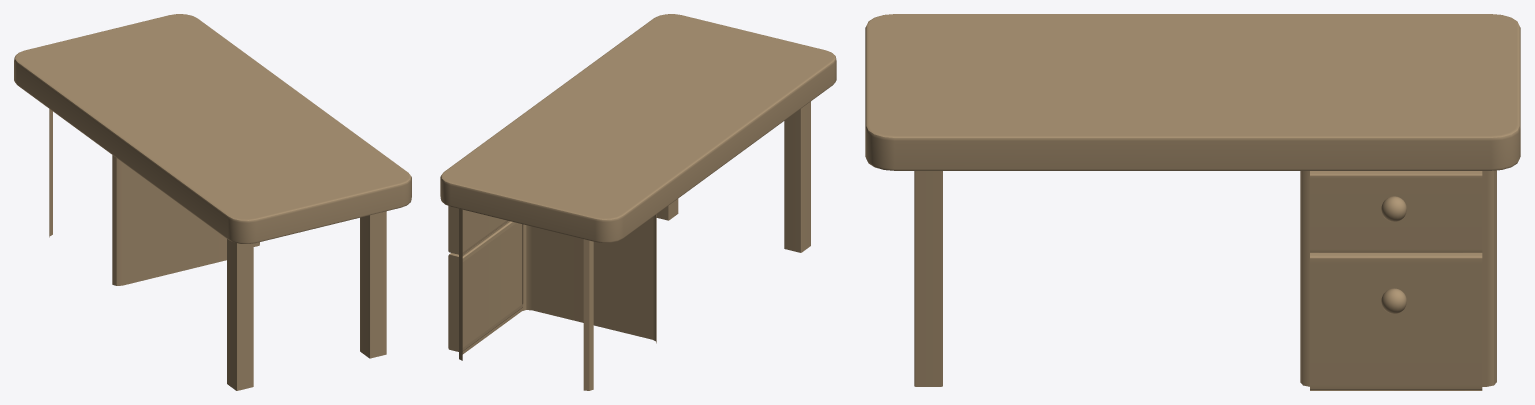
The model's file is desk.fbx.
3 renders of one model, left to right at view 1: azimuth 30°, elevation 25°; view 2: azimuth 150°, elevation 25°; view 3: azimuth 270°, elevation 25°, orthographic. The views are drawn at different scales.
Visible parts, largest first — view 1: desktop, deskside, deskleg02, deskleg01; view 2: desktop, deskside, deskleg02, deskdrawer02, deskdrawer01; view 3: desktop, deskdrawer02, deskdrawer01, deskleg01, deskside.
Part boxes in pixels (x1,y1,x2,y2): desktop: (14,14,411,243); deskside: (49,109,226,285); deskleg02: (227,239,253,390); deskleg01: (360,211,386,358); desktop: (440,14,836,242); deskside: (459,209,656,390); deskleg02: (784,101,810,252); deskdrawer02: (448,221,523,351); deskdrawer01: (448,206,508,254); desktop: (865,14,1520,170); deskdrawer02: (1310,253,1482,390); deskdrawer01: (1310,171,1482,252); deskleg01: (914,171,942,386); deskside: (1300,170,1496,386).
Bounding box in the file's own units: 3.46 × 3.13 × 7.15.
